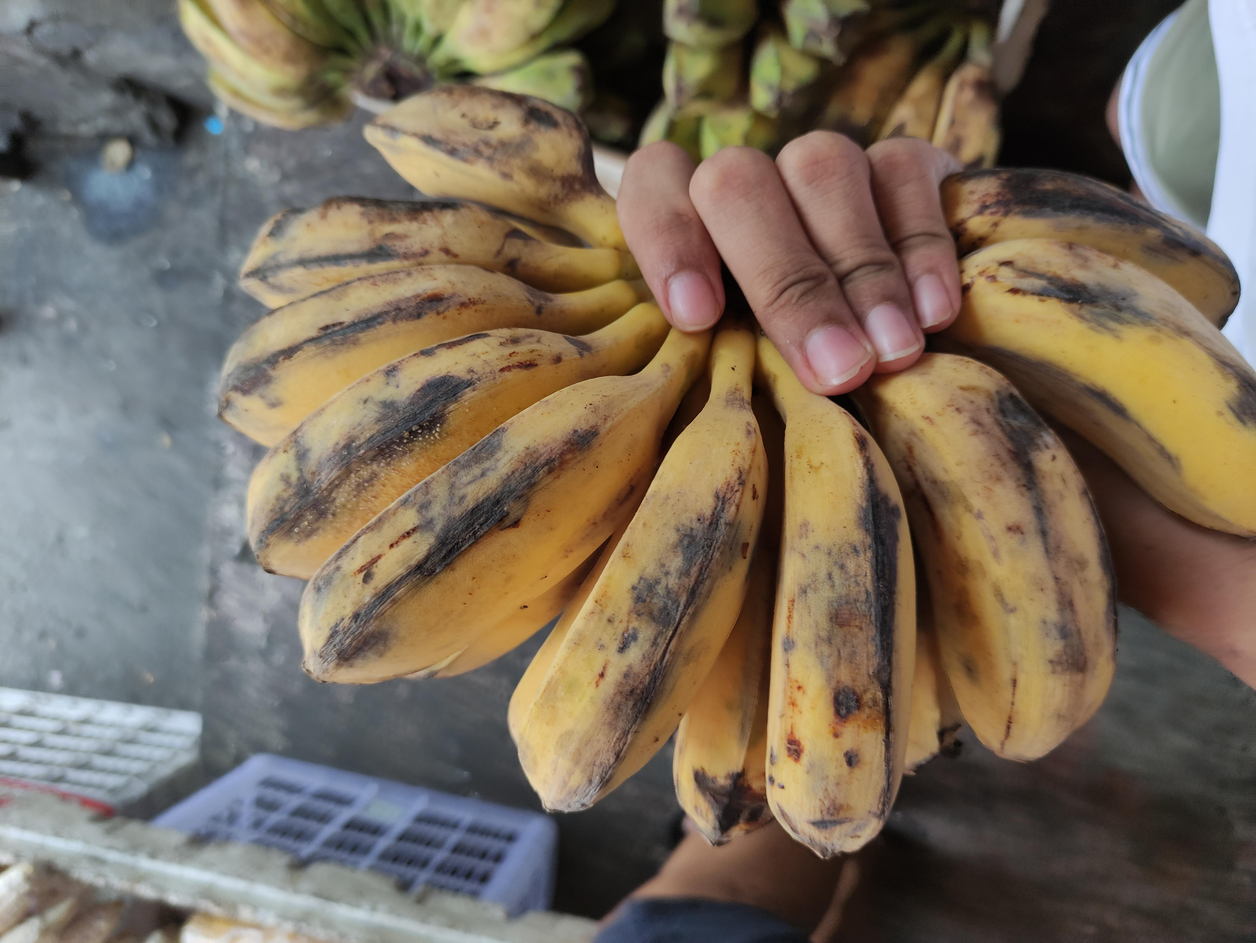ripe: (218, 86, 1256, 857)
